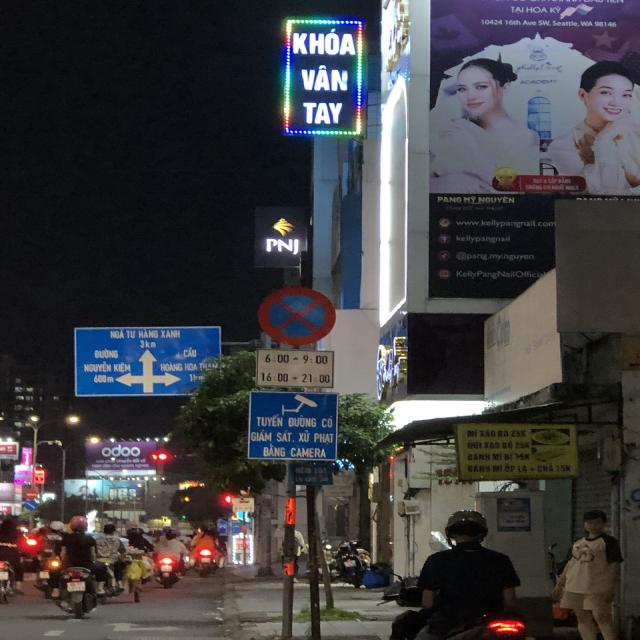Bien bao cam dung xe va do xe: (253, 280, 343, 346)
